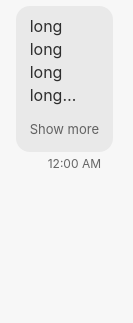
Test case: user messages (F-35) › clamps to four lines and offers Show more when the text is cut
Click the button "Show more": (64, 129) 30,107 -> 99,151
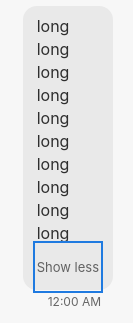
Expected: the button "Show less" is shown, 37,245 -> 99,289
